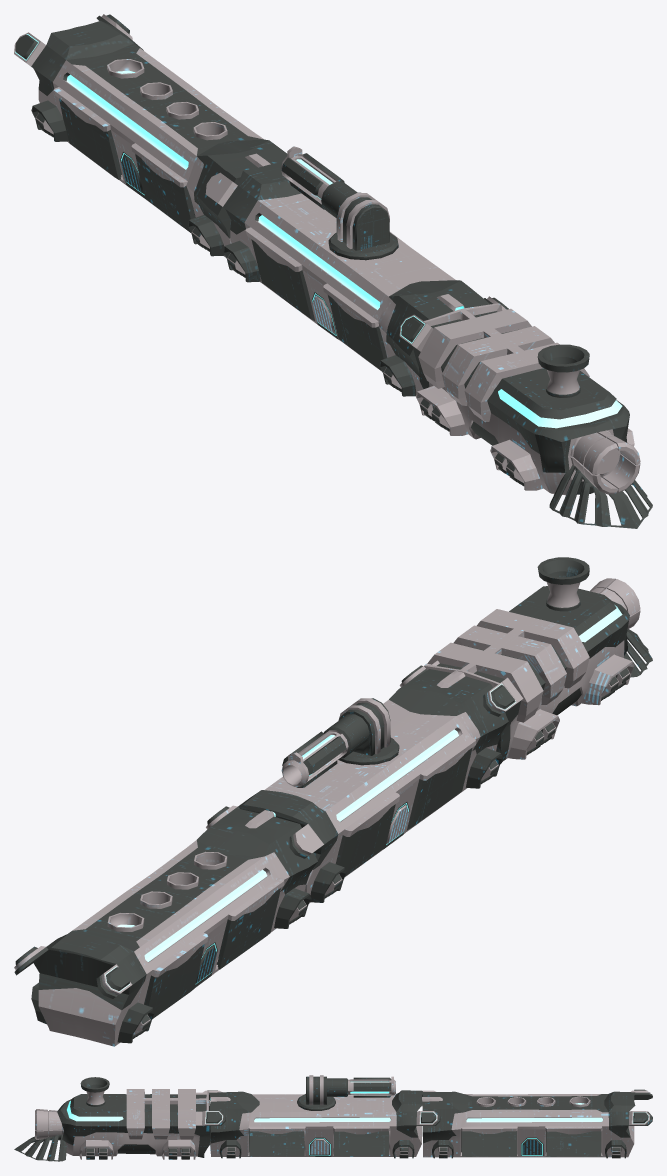
The model's file is TrainTextured.fbx.
3 renders of one model, top to bottom at view 1: azimuth 30°, elevation 25°; view 2: azimuth 150°, elevation 25°; view 3: azimuth 270°, elevation 25°, orthographic. The views are drawn at different scales.
Visible parts, largest first — view 1: FrontCar, BackCar, MidCar, Train_Cannon; view 2: BackCar, MidCar, FrontCar, Train_Cannon; view 3: BackCar, MidCar, FrontCar, Train_Cannon.
Boxes of the visible parts, box(x1,y1,x2,y2) form: FrontCar: box(399, 296, 652, 528); BackCar: box(14, 14, 287, 257); MidCar: box(205, 161, 489, 396); Train_Cannon: box(281, 146, 398, 260); BackCar: box(14, 808, 317, 1046); MidCar: box(206, 669, 508, 903); FrontCar: box(399, 557, 652, 763); Train_Cannon: box(281, 698, 399, 787); BackCar: box(422, 1089, 652, 1158); MidCar: box(210, 1090, 440, 1158); FrontCar: box(14, 1077, 225, 1161); Train_Cannon: box(297, 1075, 395, 1110).
Size of the model in its own units: 1780 by 1905 by 14731.
